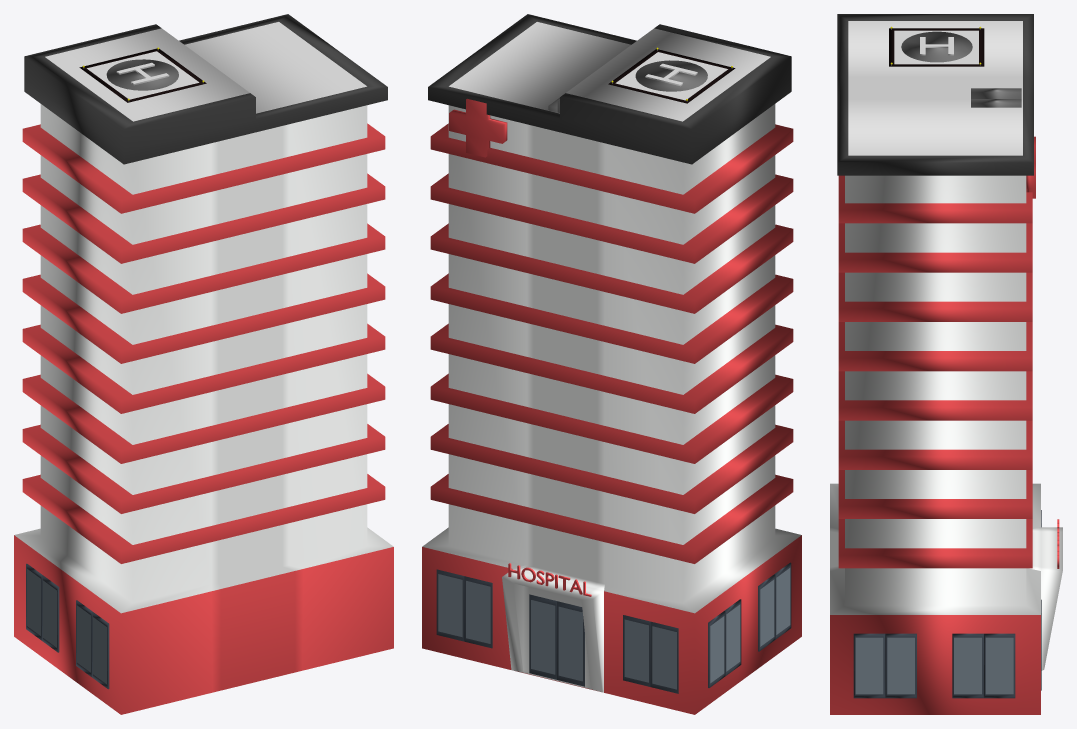
Rendered from rumah-sakit.glb.
The picture shows the model from 3 angles, left to right: view 1: azimuth 30°, elevation 25°; view 2: azimuth 150°, elevation 25°; view 3: azimuth 270°, elevation 25°; orthographic projection.
Parts seen in each view (by area): view 1: Cube.002; view 2: Cube.002, Text; view 3: Cube.002.
Boxes of the visible parts, x1,y1,x2,y2 form: Cube.002: (14,14,393,714); Cube.002: (422,14,801,714); Text: (508,563,591,596); Cube.002: (830,14,1062,714).
Bounding box in the file's own units: 3.73 × 7.59 × 2.78.
